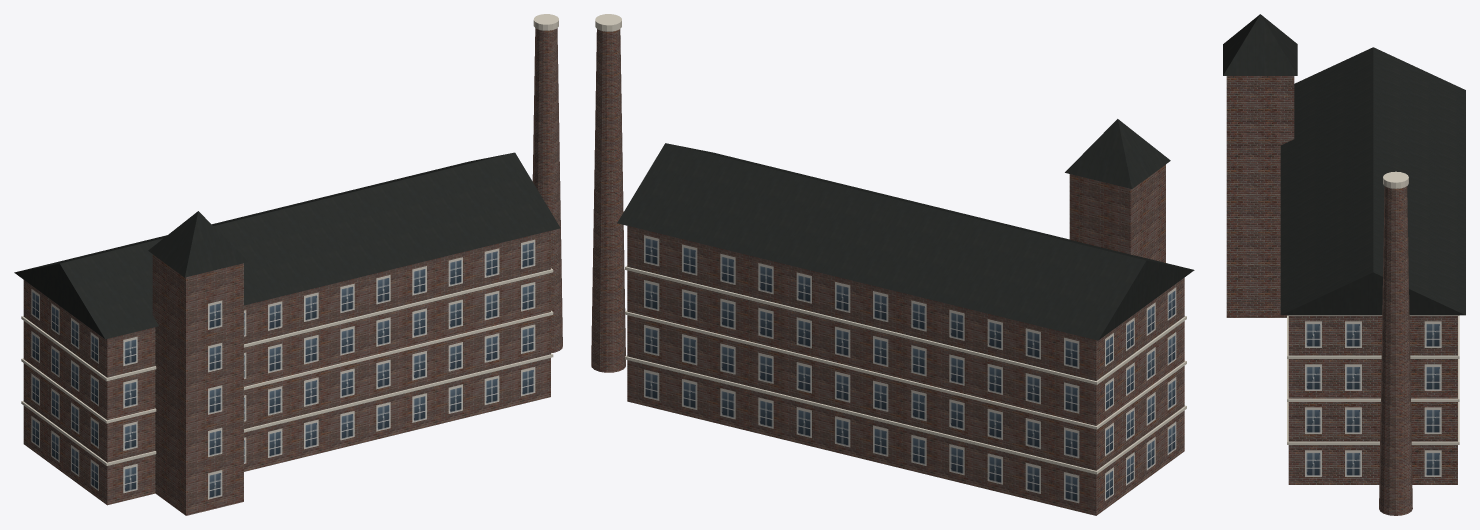
Rendered from textile_mill.glb.
The picture shows the model from 3 angles, left to right: view 1: azimuth 30°, elevation 25°; view 2: azimuth 150°, elevation 25°; view 3: azimuth 270°, elevation 25°; orthographic projection. The views are drawn at different scales.
Visible parts, largest first — view 1: main_block, roof, window, band; view 2: main_block, roof, window, band; view 3: roof, main_block, window, band.
Part boxes in pixels (bbox=[...]): main_block: bbox=[23, 28, 562, 515]; roof: bbox=[14, 152, 560, 339]; window: bbox=[31, 239, 535, 499]; band: bbox=[21, 14, 558, 465]; main_block: bbox=[591, 29, 1184, 515]; roof: bbox=[617, 119, 1194, 340]; window: bbox=[644, 235, 1176, 503]; band: bbox=[595, 14, 1186, 474]; roof: bbox=[1223, 14, 1465, 315]; main_block: bbox=[1226, 76, 1457, 515]; window: bbox=[1305, 321, 1441, 476]; band: bbox=[1287, 171, 1459, 444].
Size of the model in its own units: 53.1 by 32.4 by 21.51.
Materials: 4 (3 with a texture image).
